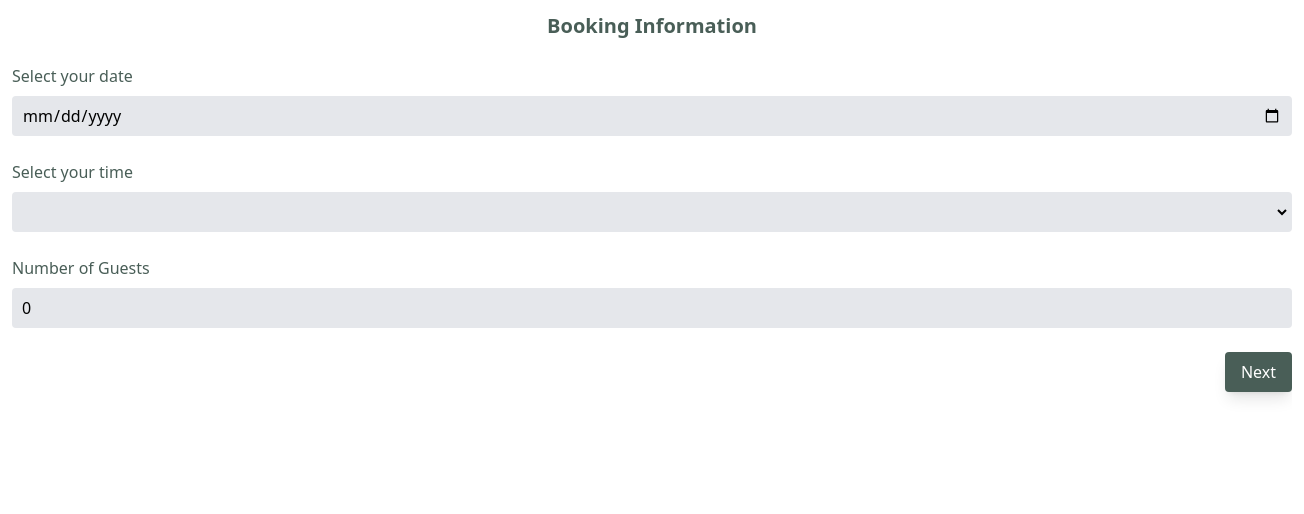
Test case: <BookingInformationForm /> › should perform validation
Click the button "Next" at (1258, 372), box [1225,352,1292,392]
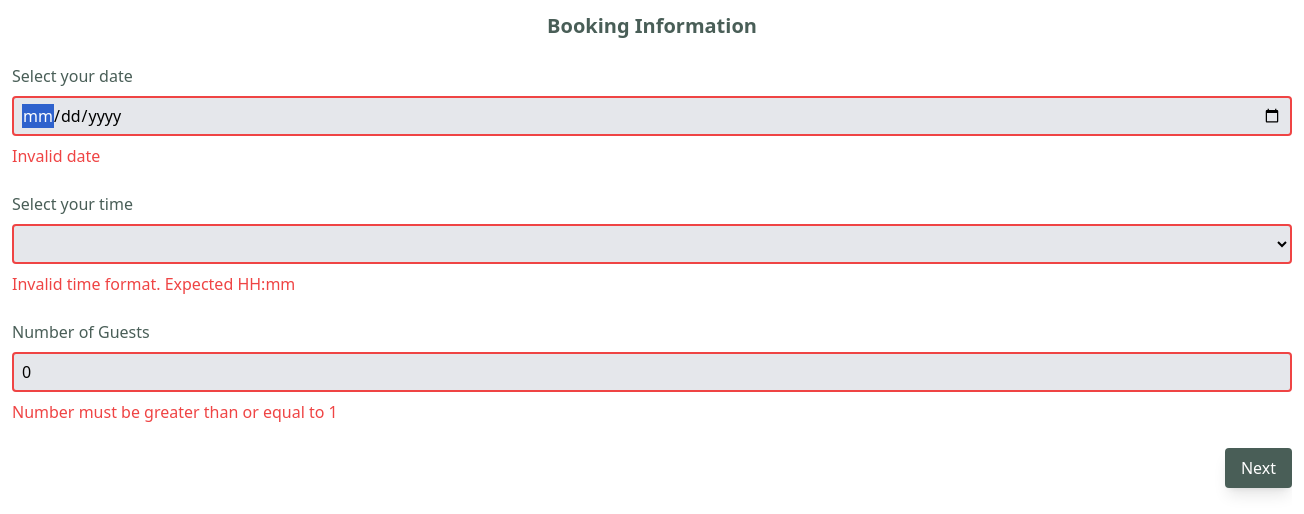
Now the text "Invalid date" is shown, box [12,145,100,167]
Now the text "Invalid time format. Expected HH:mm" is shown, box [12,273,295,295]
Now the text "Number must be greater than or equal to 1" is shown, box [12,401,338,423]
Type "9" into the number field labelled "Number of Guests" at (652, 372), box [12,352,1292,392]
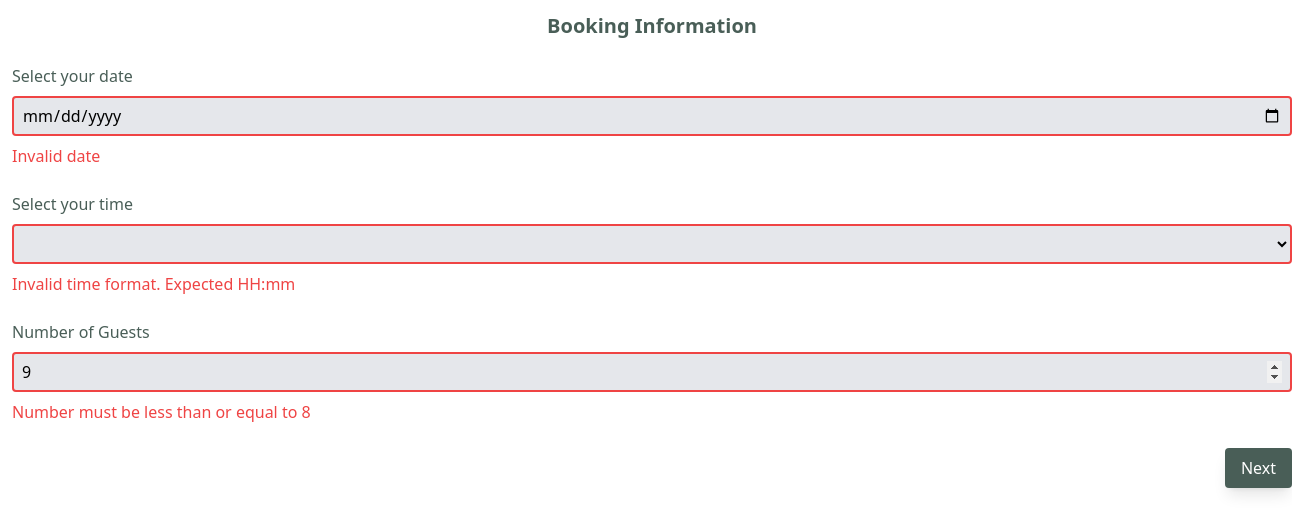
Now the text "Number must be less than or equal to 8" is shown, box [12,401,311,423]
